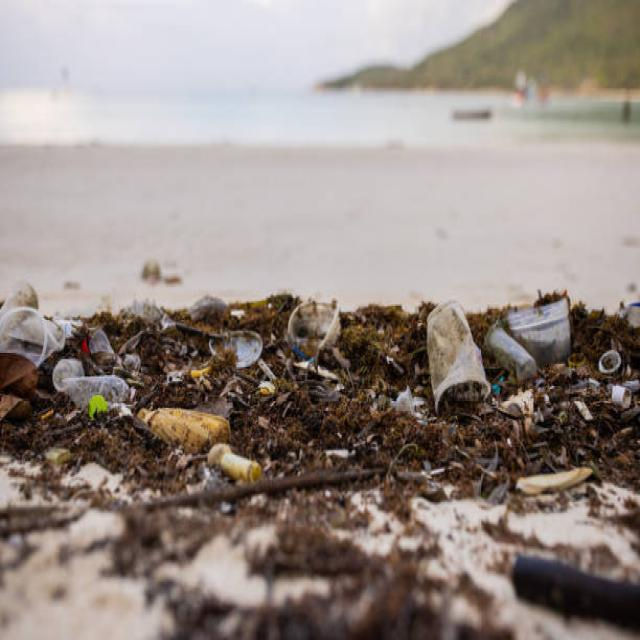plastic: (496, 314, 573, 368), (430, 314, 478, 397), (12, 294, 56, 354)
